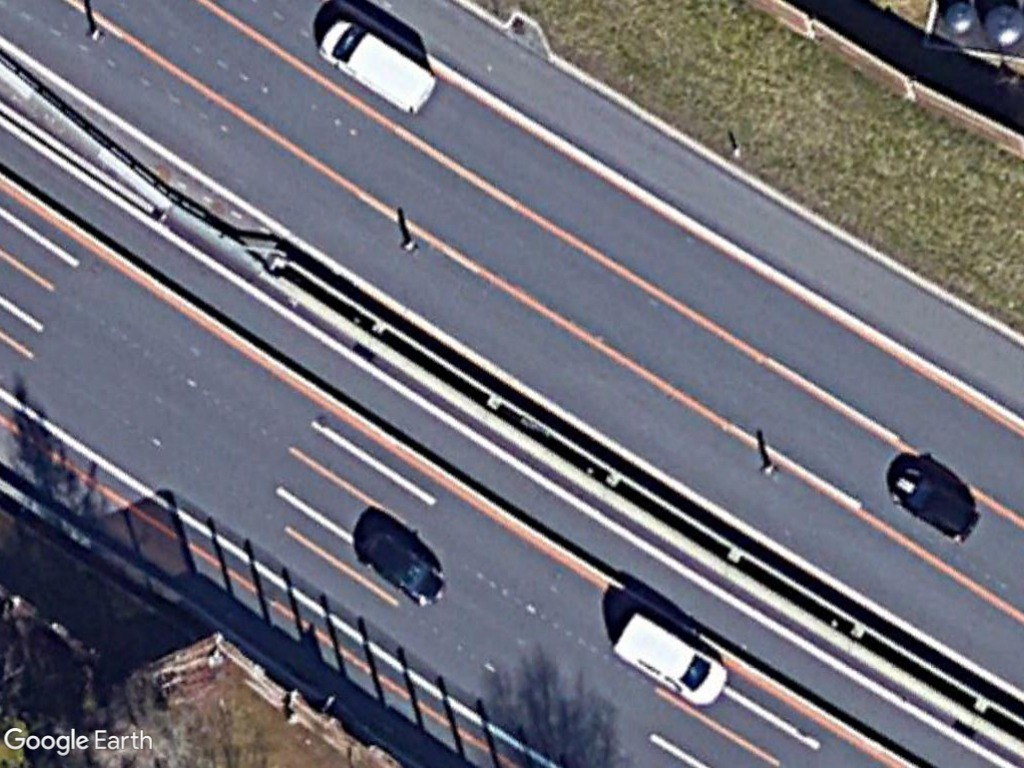van: (313, 16, 440, 115), (604, 609, 730, 707)
